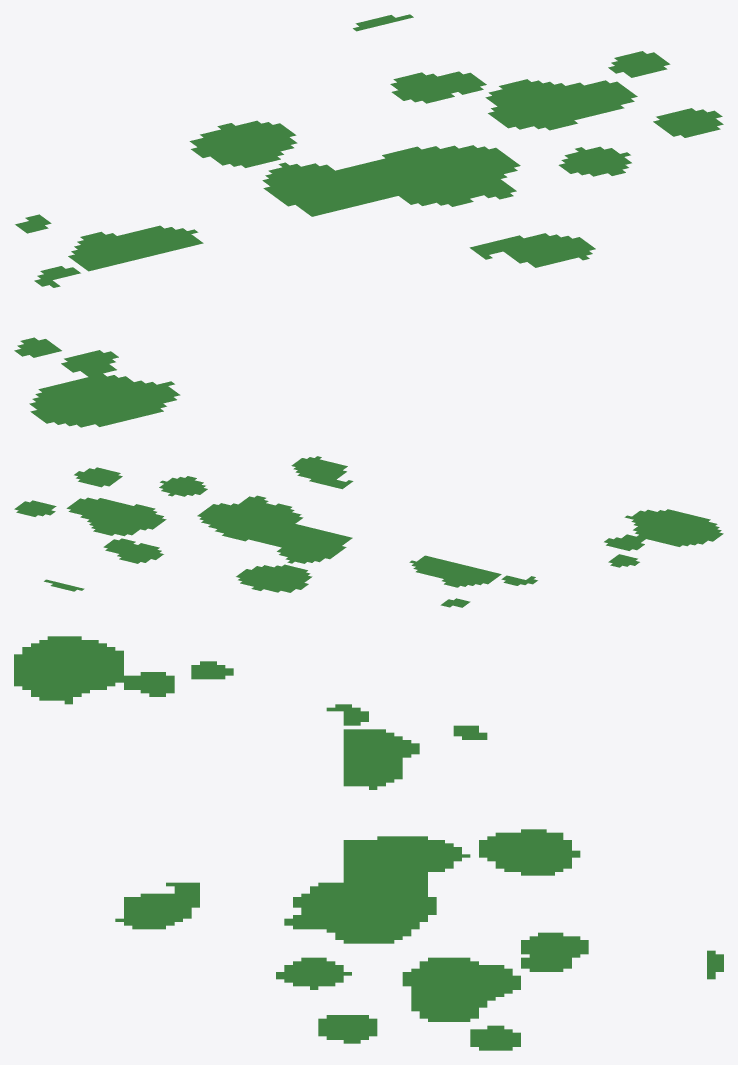
Rendered from Isl-bot2-TreesArea.fbx.
3 renders of one model, top to bottom at view 1: azimuth 30°, elevation 25°; view 2: azimuth 150°, elevation 25°; view 3: azimuth 270°, elevation 25°, orthographic. The views are drawn at different scales.
Parts seen in each view (by area): view 1: Isl-bot2-TreesArea; view 2: Isl-bot2-TreesArea; view 3: Isl-bot2-TreesArea.
Boxes of the visible parts, x1,y1,x2,y2 form: Isl-bot2-TreesArea: [14, 14, 723, 427]; Isl-bot2-TreesArea: [14, 456, 723, 607]; Isl-bot2-TreesArea: [14, 636, 723, 1050].
Size of the model in its own units: 116 by 0 by 84.
